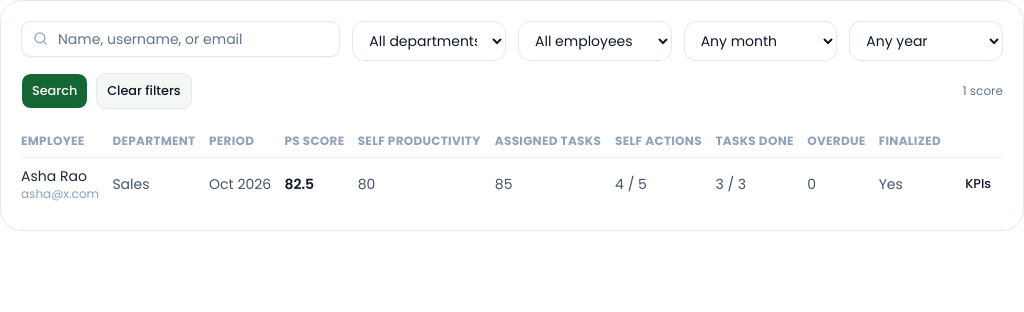
KpiScoreTab › shows an error when the breakdown fails
Click the button "KPIs". click: (978, 184)
box: [954,166,1002,202]
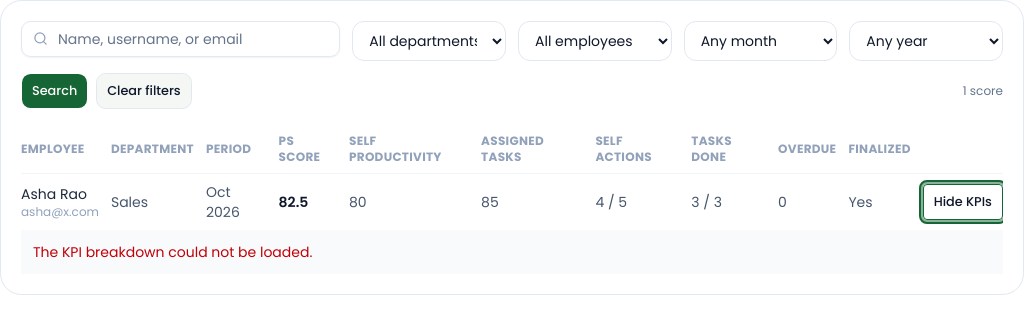
Now the text "The KPI breakdown could not be loaded." is shown, box [33,242,312,262]
